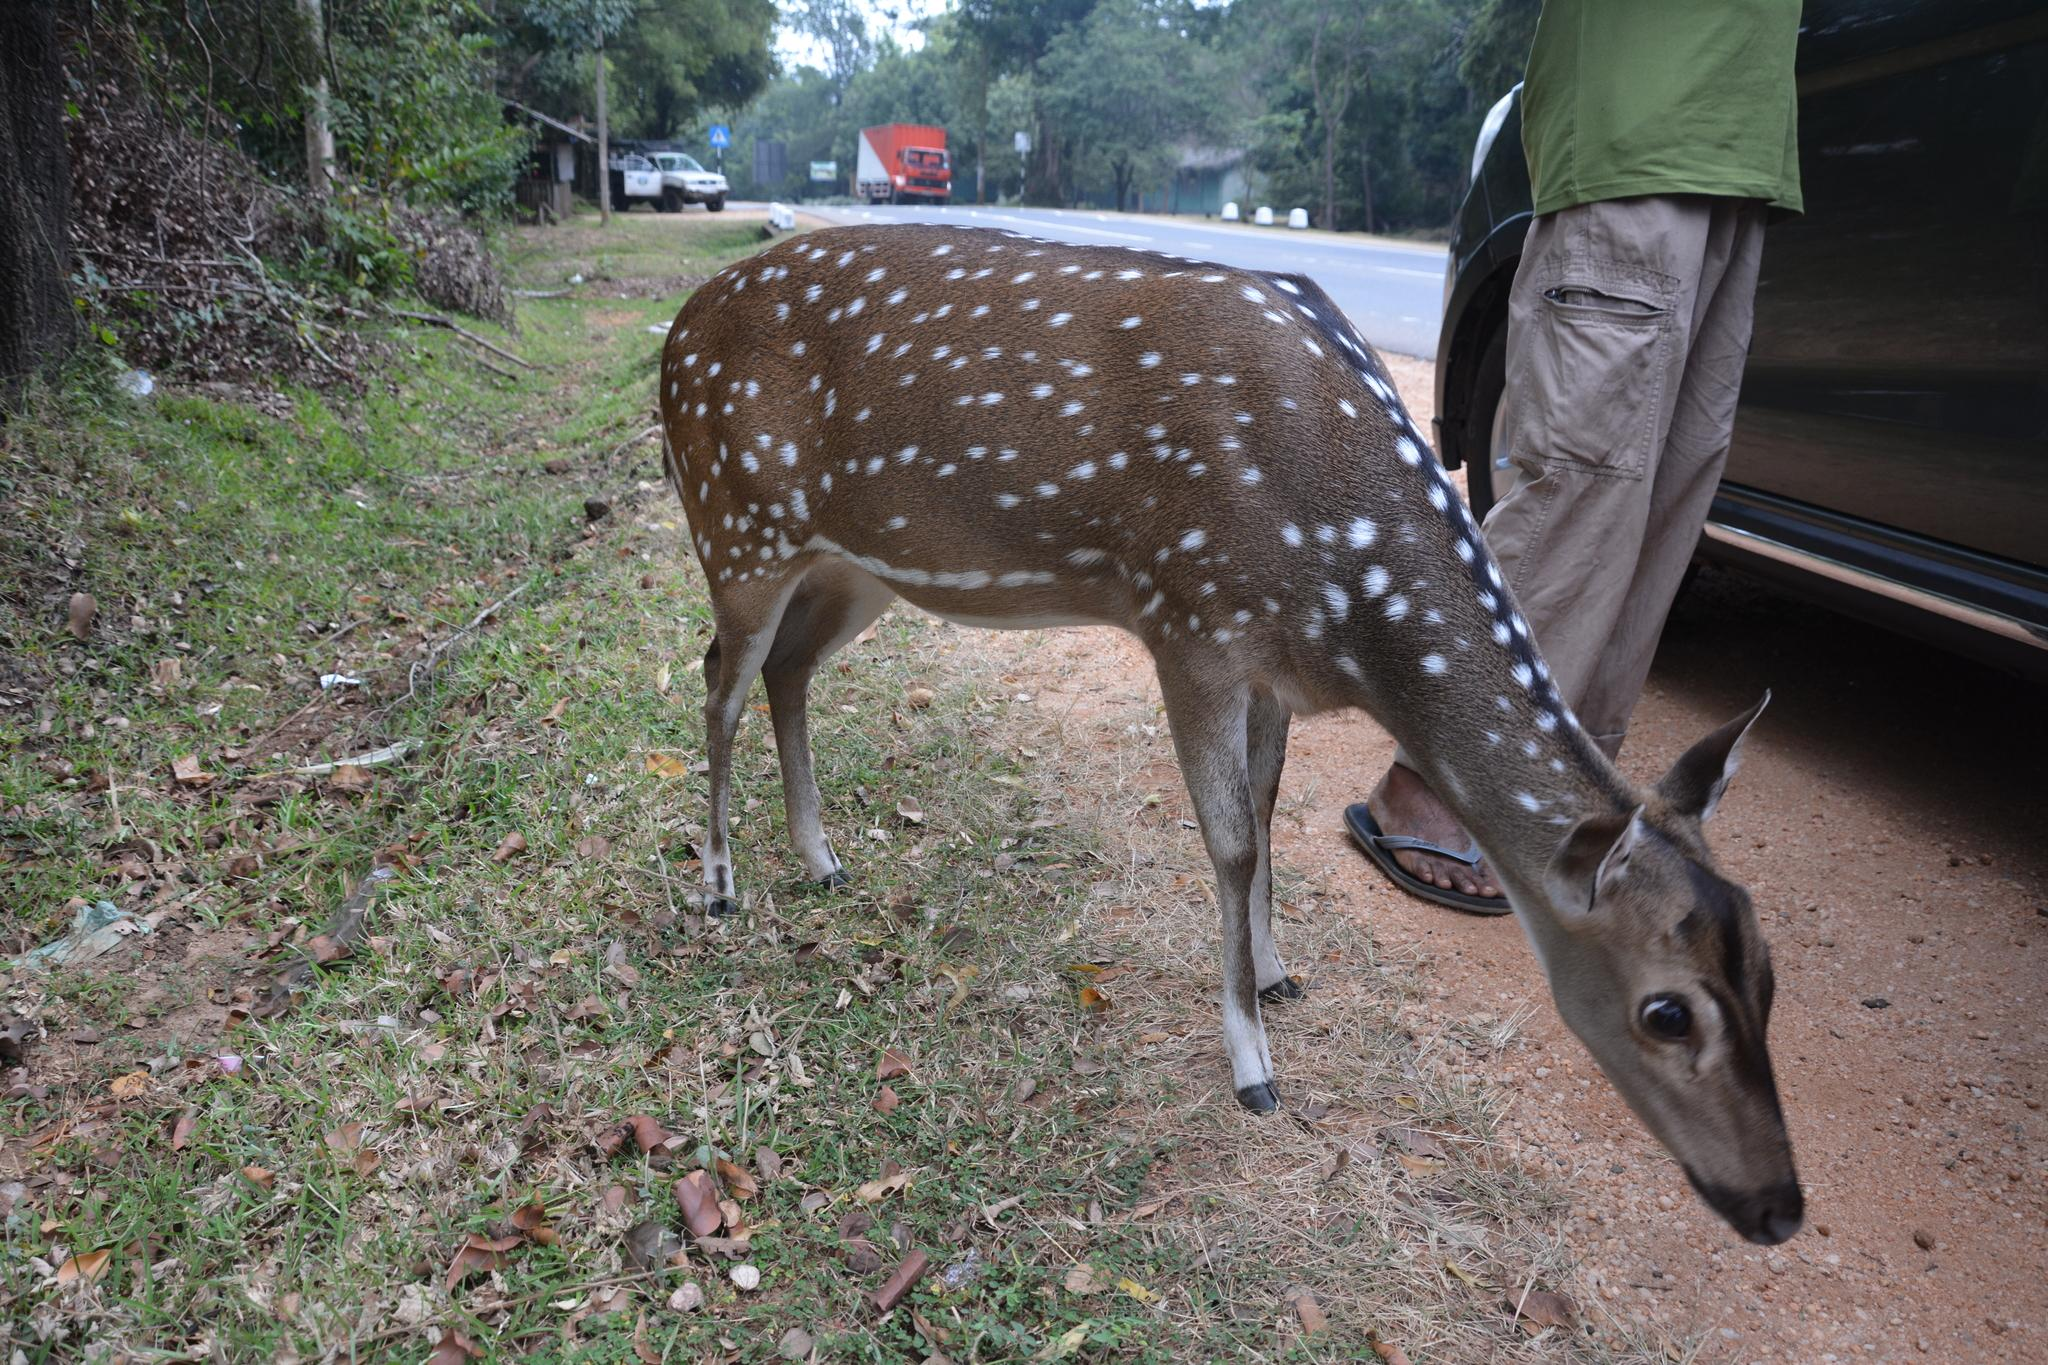Deer: (662, 228, 1803, 1241)
